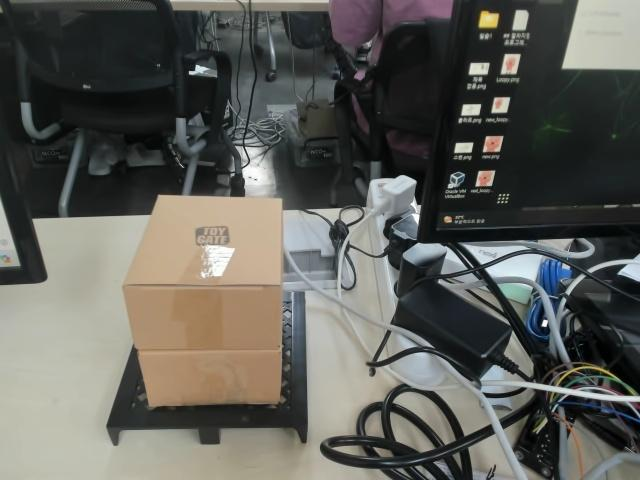box: (105, 194, 308, 446)
